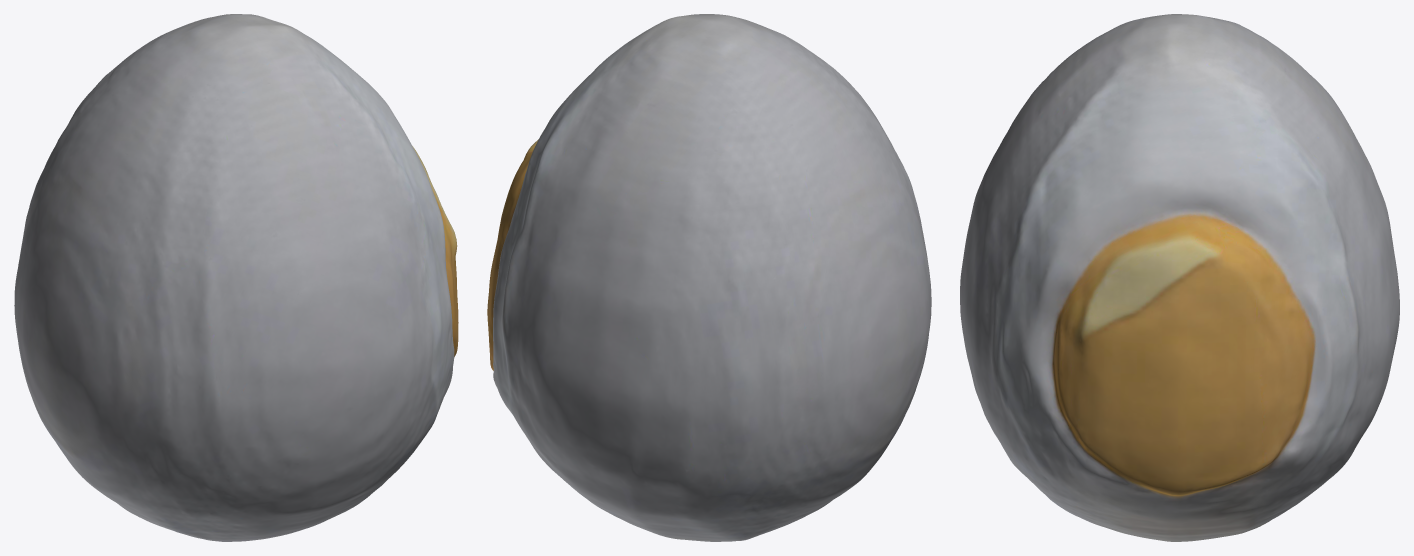
The model's file is Egg.fbx.
3 views of the same model, side by side, from view 1: azimuth 30°, elevation 25°; view 2: azimuth 150°, elevation 25°; view 3: azimuth 270°, elevation 25° (orthographic).
Visible parts, largest first — view 1: high_poly; view 2: high_poly; view 3: high_poly.
Part boxes in pixels (x1=…): high_poly: x1=14, y1=14, x2=458, y2=541; high_poly: x1=487, y1=14, x2=931, y2=541; high_poly: x1=960, y1=14, x2=1399, y2=541.
Size of the model in its own units: 80.3 by 100 by 79.27.
